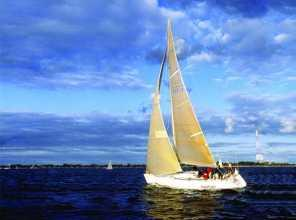fanchuan: (141, 22, 249, 191)
